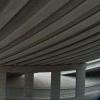Bridge: (1, 4, 91, 92)
